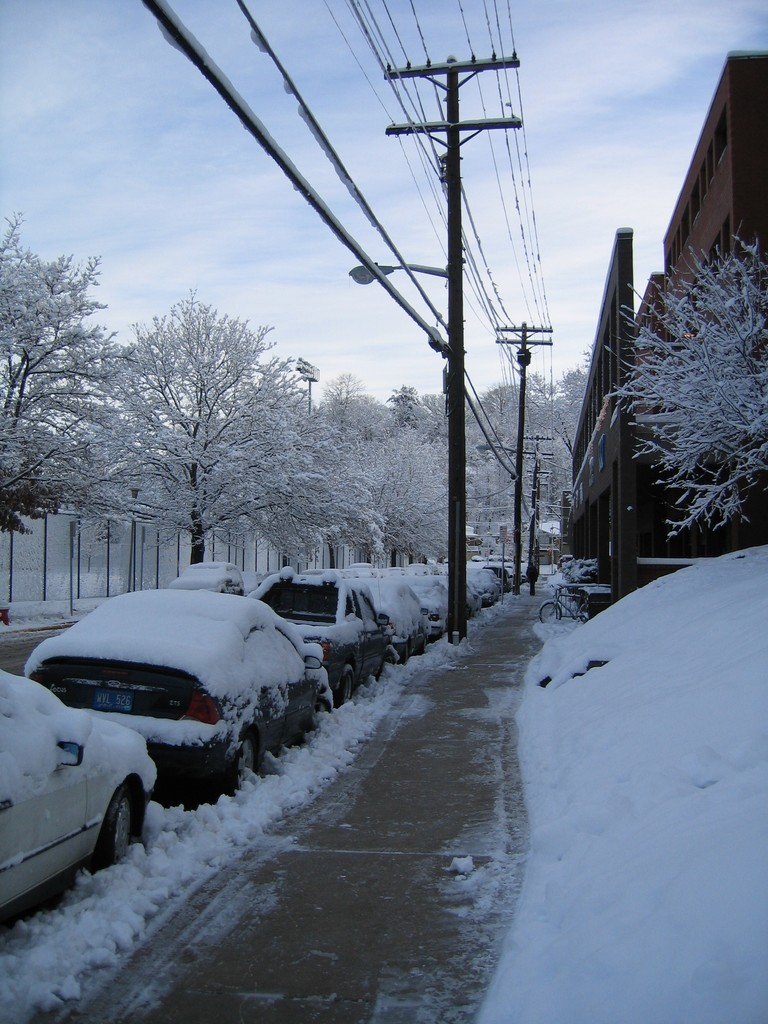Car: (0, 562, 506, 928)
